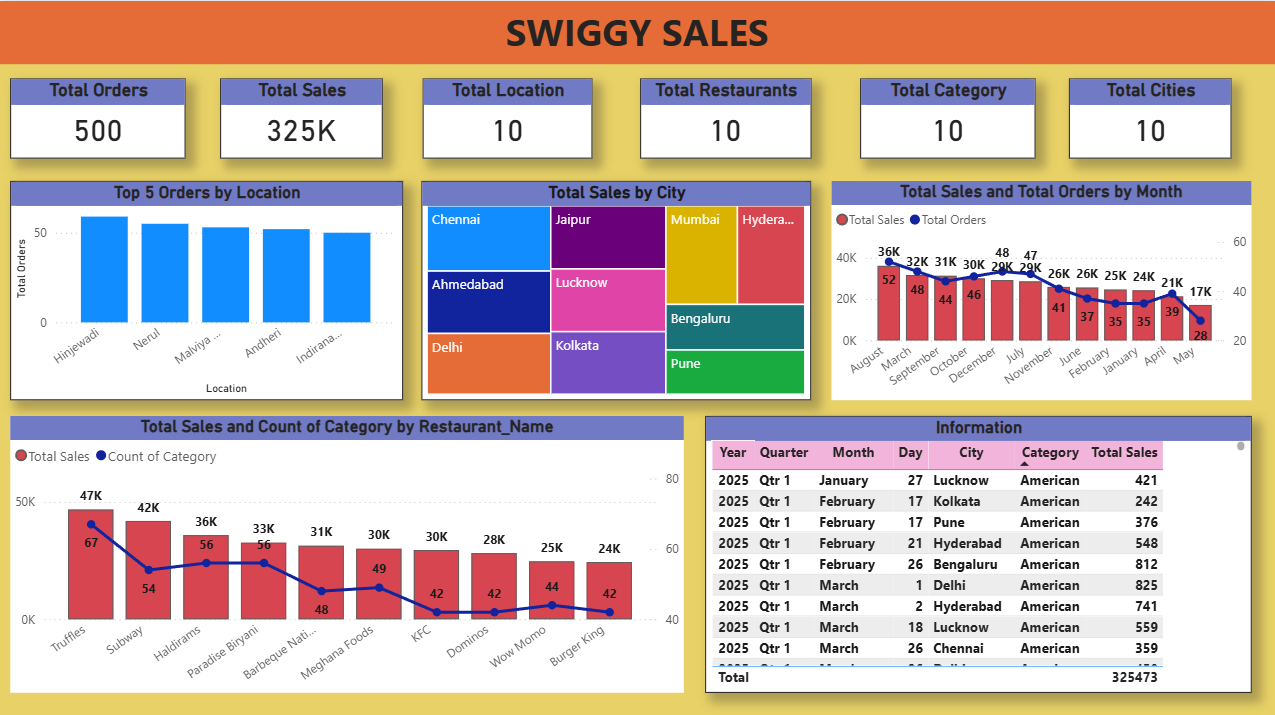

The dashboard page shown, as its layout file describes it:
{"tool":"powerbi","page":{"name":"Page 1","canvas":[1280,720],"ordinal":0},"visuals":[{"type":"textbox","box":[0,0,1280.3,63.1],"z":0},{"type":"card","title":"Total Orders","fields":{"Values":["Sheet1.Total Orders"]},"box":[11.6,77.9,175.6,80.2],"z":1000},{"type":"card","title":"Total Sales","fields":{"Values":["Sheet1.Total Sales"]},"box":[220.9,77.9,162.8,80.2],"z":2000},{"type":"card","title":"Total Location","fields":{"Values":["Sheet1.Total Location"]},"box":[423.3,77.9,169.8,80.2],"z":3000},{"type":"card","title":"Total Restaurants","fields":{"Values":["Sheet1.Total Restaurants"]},"box":[640.7,77.9,170.9,80.2],"z":4000},{"type":"card","title":"Total Category","fields":{"Values":["Sheet1.Total Category"]},"box":[861.6,77.9,175.6,80.2],"z":5000},{"type":"card","title":"Total Cities","fields":{"Values":["Sheet1.Total City"]},"box":[1069.8,77.9,162.8,80.2],"z":6000},{"type":"lineStackedColumnComboChart","title":"Top 5 Orders by Location","fields":{"Category":["Sheet1.Location"],"Y":["Sheet1.Total Orders"]},"box":[11,179.8,392.5,219.6],"z":7000},{"type":"treemap","fields":{"Group":["Sheet1.City"],"Values":["Sheet1.Total Sales"]},"box":[422.6,179.8,389.7,219.6],"z":8000},{"type":"lineStackedColumnComboChart","fields":{"Category":["Sheet1.Month"],"Y":["Sheet1.Total Sales"],"Y2":["Sheet1.Total Orders"]},"box":[832.9,179.8,419.9,219.6],"z":9000},{"type":"lineStackedColumnComboChart","fields":{"Category":["Sheet1.Restaurant_Name"],"Y":["Sheet1.Total Sales"],"Y2":["CountNonNull(Sheet1.Category)"]},"box":[11,414.4,673.8,277.2],"z":10000},{"type":"tableEx","title":"Information","fields":{"Values":["Sheet1.Order_Date.Variation.Date Hierarchy.Year","Sheet1.Order_Date.Variation.Date Hierarchy.Quarter","Sheet1.Order_Date.Variation.Date Hierarchy.Month","Sheet1.Order_Date.Variation.Date Hierarchy.Day","Sheet1.City","Sheet1.Category","Sheet1.Total Sales"]},"box":[706.7,414.4,546.1,277.2],"z":11000}]}

Visuals, with their boxes in screenshot pixels (x1, y1, x2, y2), scaled from the page's 1280x720 canvas onto the 1275x715 screenshot:
textbox: 0 0 1274 63
"Total Orders" card: 12 77 186 157
"Total Sales" card: 220 77 382 157
"Total Location" card: 422 77 591 157
"Total Restaurants" card: 638 77 808 157
"Total Category" card: 858 77 1033 157
"Total Cities" card: 1066 77 1228 157
"Top 5 Orders by Location" lineStackedColumnComboChart: 11 179 402 397
treemap - Sheet1.City x Sheet1.Total Sales: 421 179 809 397
lineStackedColumnComboChart - Sheet1.Month x Sheet1.Total Sales: 830 179 1248 397
lineStackedColumnComboChart - Sheet1.Restaurant_Name x Sheet1.Total Sales: 11 412 682 687
"Information" tableEx: 704 412 1248 687
